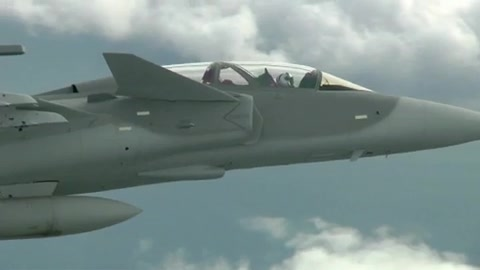aeroplane: (2, 44, 480, 241)
